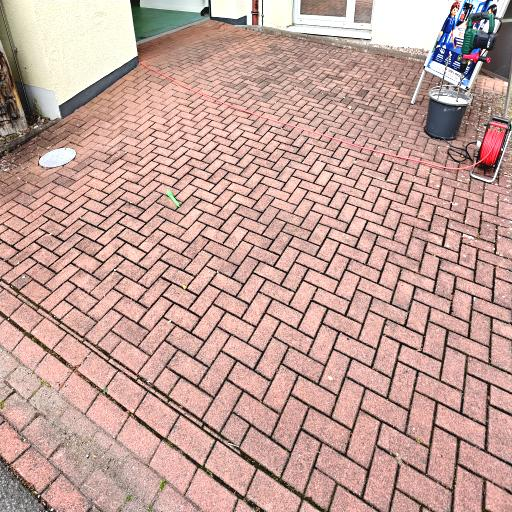Probe-Detection: (167, 190, 180, 208)
